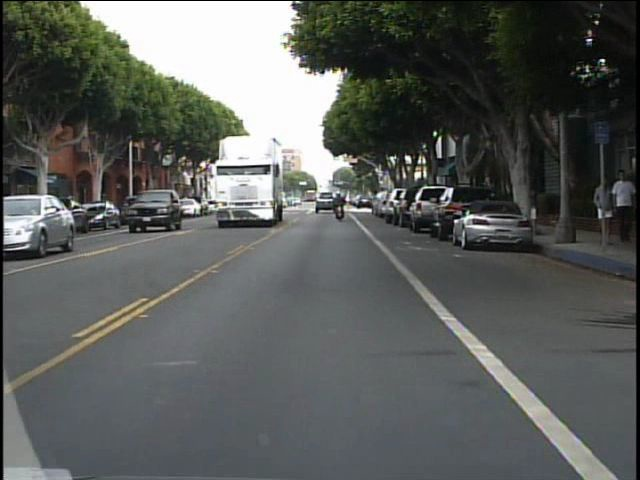person: (612, 170, 636, 244), (590, 175, 613, 242), (330, 190, 350, 221)
